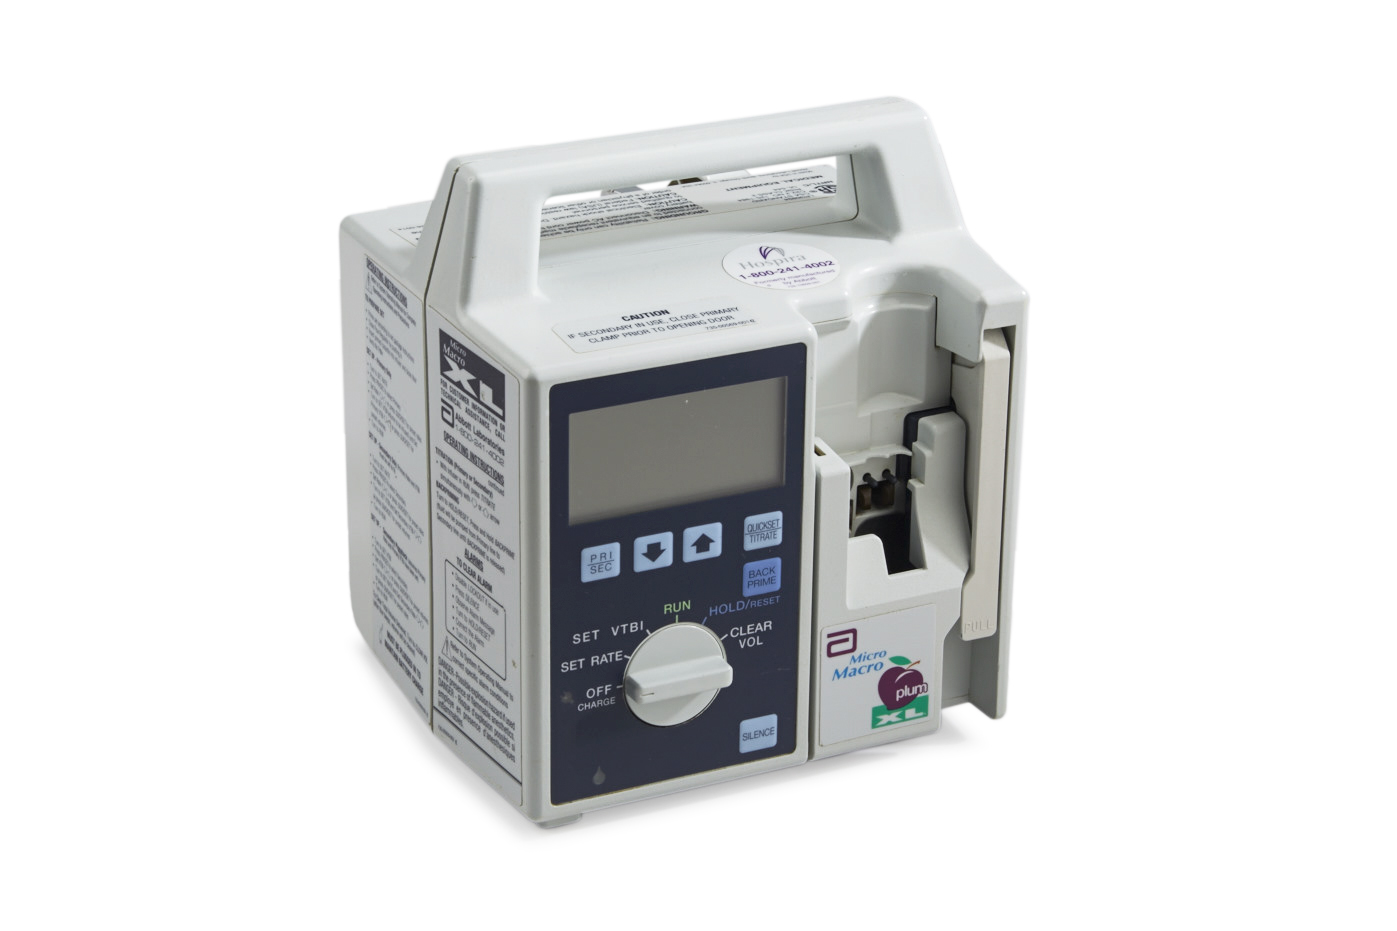plumxl1: (335, 94, 1030, 829)
